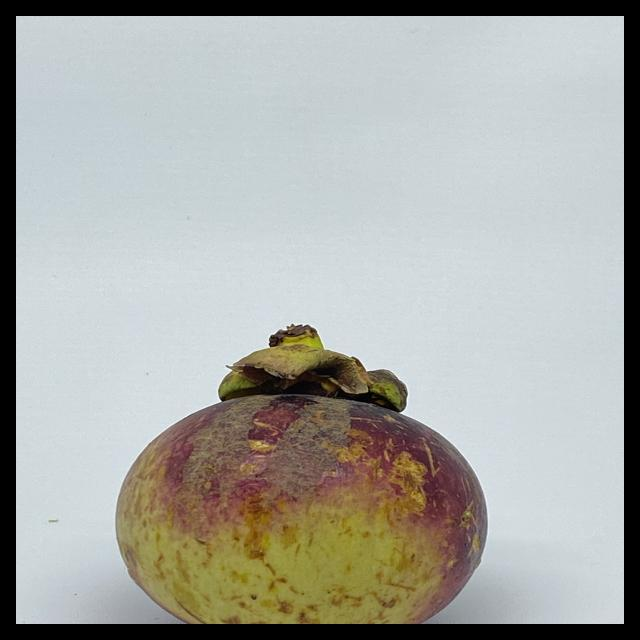mangosteen: (123, 321, 514, 624)
